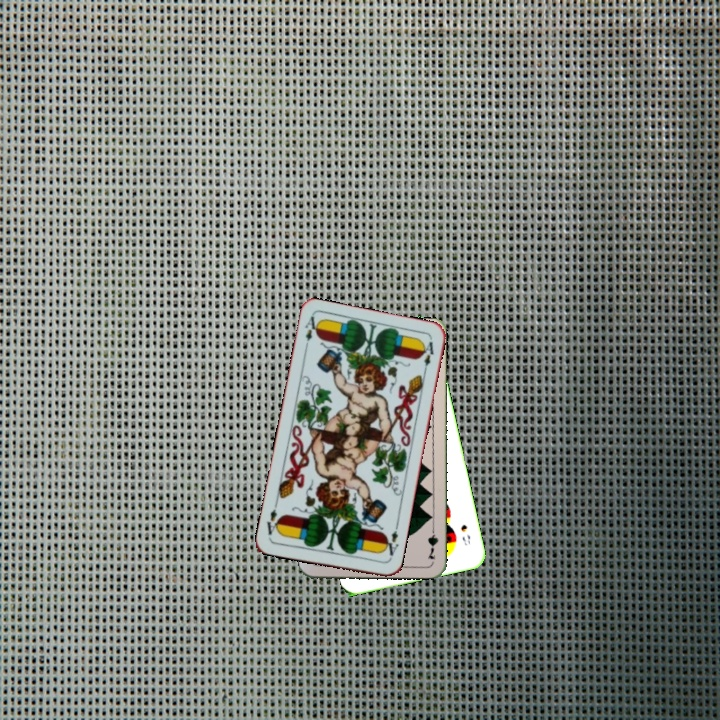EA: (300, 313, 321, 353), (379, 521, 401, 558)
G7: (423, 522, 441, 562)
S8: (457, 521, 473, 548)
